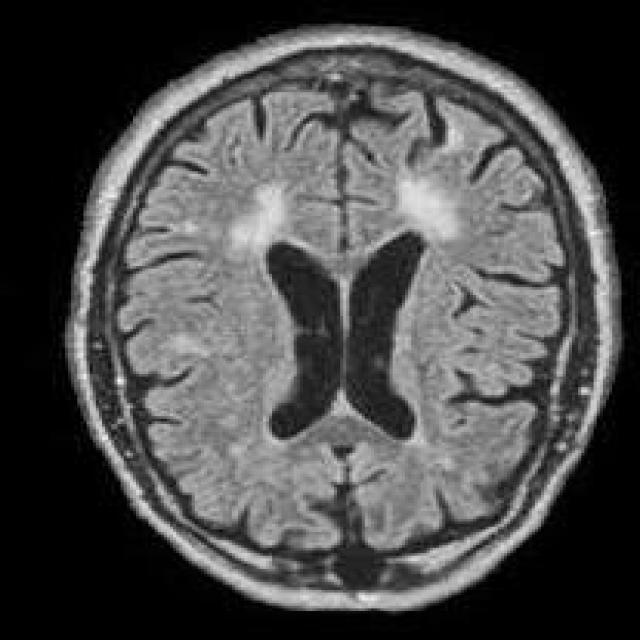notumor: (65, 29, 621, 616)
